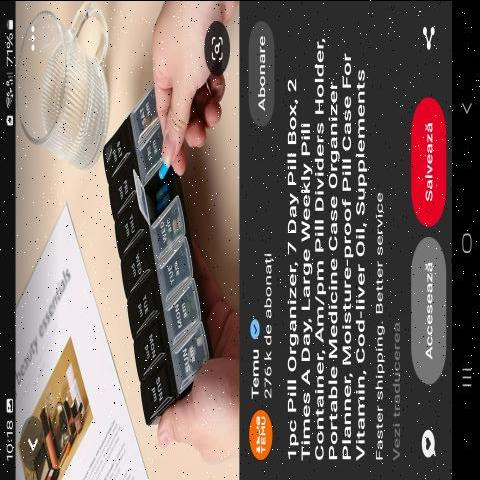PillBox: (76, 68, 224, 452)
